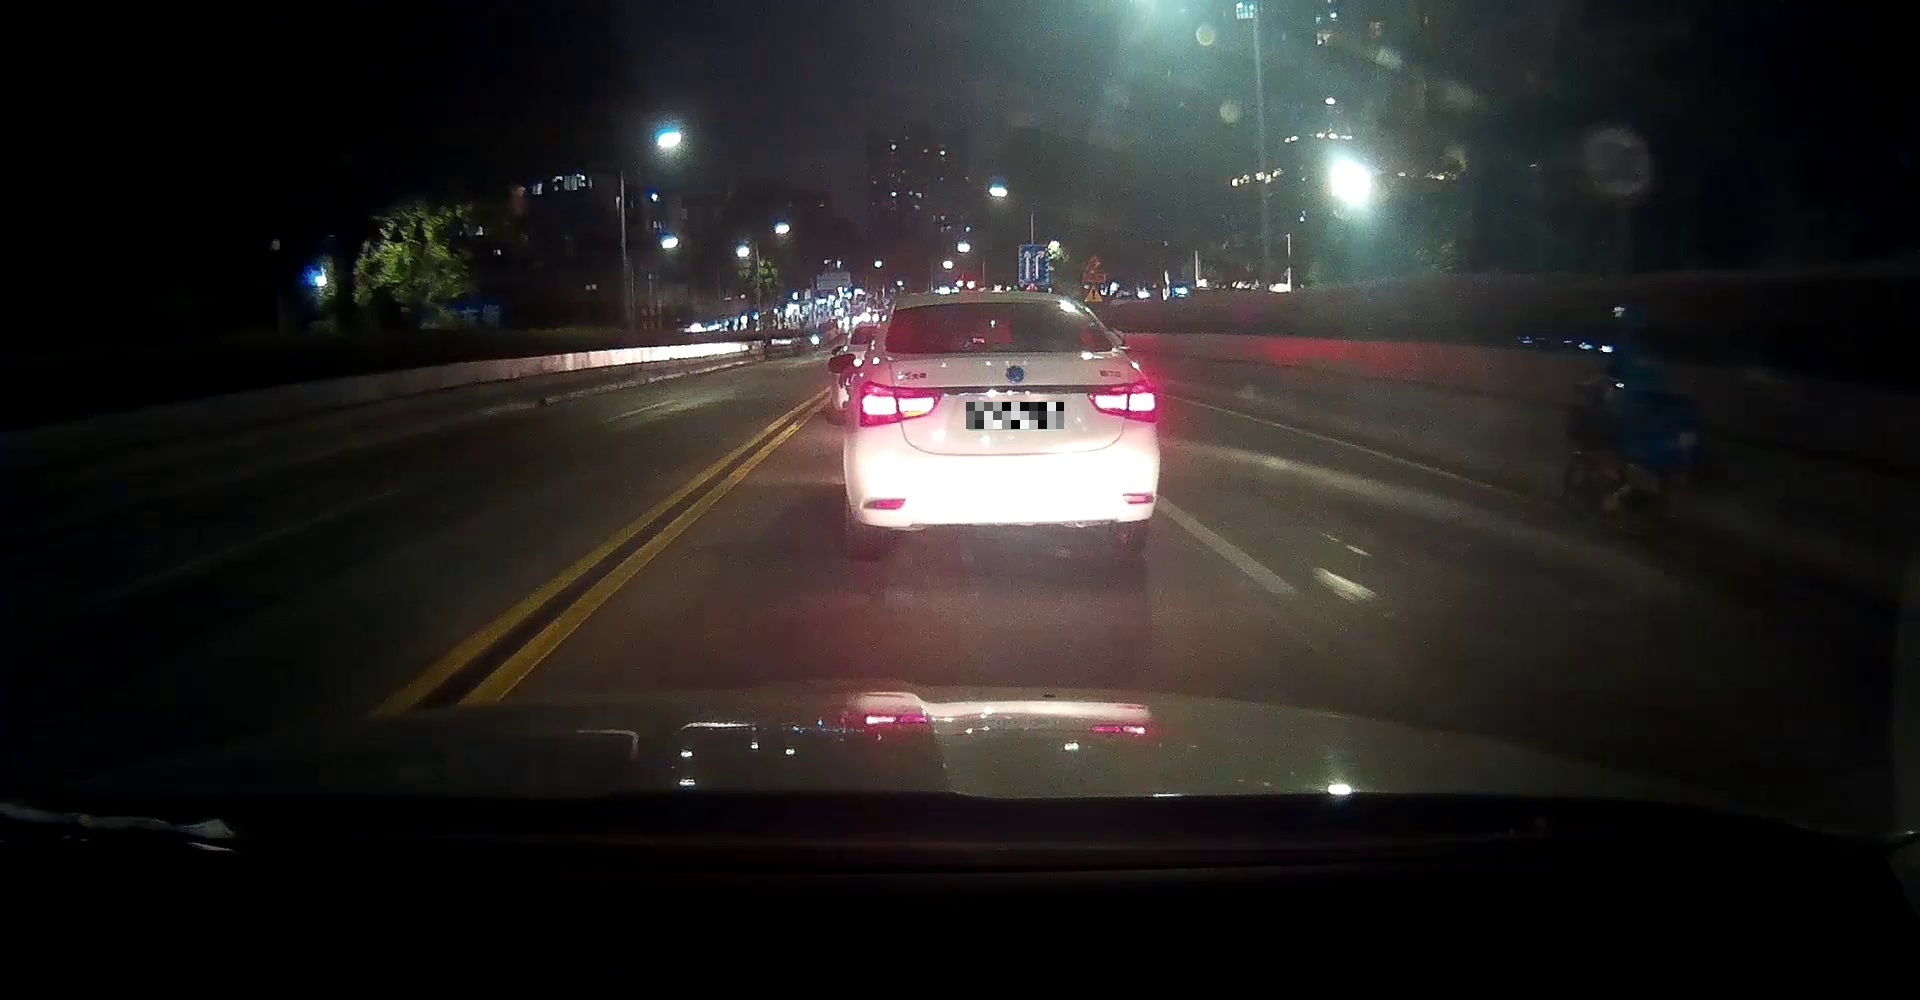L_light: (858, 382, 945, 426)
R_light: (1087, 379, 1157, 424)
T_light: (984, 302, 1016, 310)
night-no: (844, 291, 1159, 560)
plate_1: (966, 402, 1064, 429)
